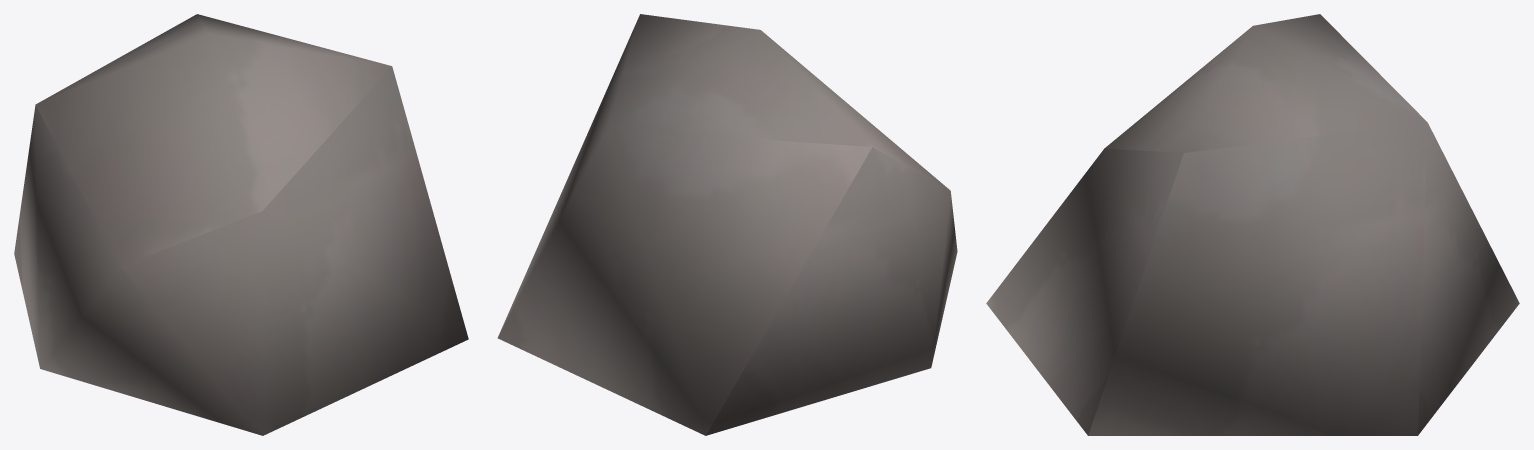
Rendered from rock2.fbx.
3 views of the same model, side by side, from view 1: azimuth 30°, elevation 25°; view 2: azimuth 150°, elevation 25°; view 3: azimuth 270°, elevation 25° (orthographic). The views are drawn at different scales.
Visible parts, largest first — view 1: Cube.003; view 2: Cube.003; view 3: Cube.003.
Boxes of the visible parts, x1,y1,x2,y2 form: Cube.003: (14,14,468,435); Cube.003: (497,14,957,435); Cube.003: (986,14,1519,435).
Size of the model in its own units: 1.39 by 1.11 by 1.7.
